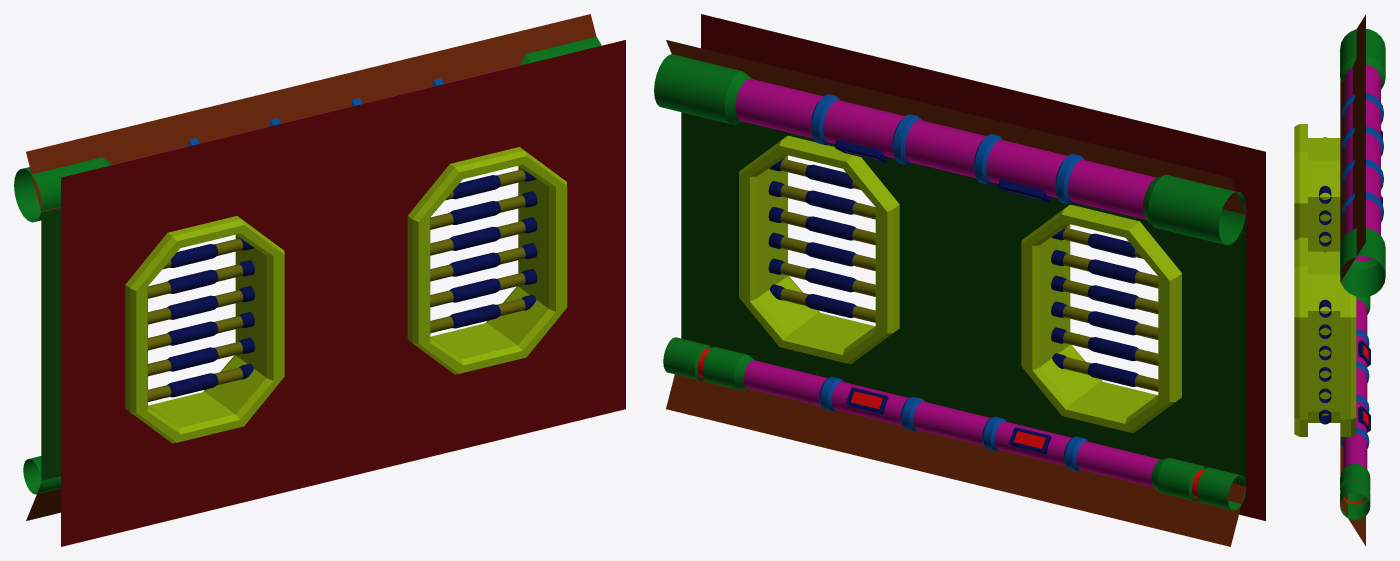
The model's file is OBJ_SF_Mur_Fenetre.fbx.
3 renders of one model, left to right at view 1: azimuth 30°, elevation 25°; view 2: azimuth 150°, elevation 25°; view 3: azimuth 270°, elevation 25°, orthographic. The views are drawn at different scales.
Visible parts, largest first — view 1: OBJ_Mur_Fenetre; view 2: OBJ_Mur_Fenetre; view 3: OBJ_Mur_Fenetre.
Boxes of the visible parts, left/top/right/bottom form: OBJ_Mur_Fenetre: left=14, top=14, right=625, bottom=546; OBJ_Mur_Fenetre: left=654, top=14, right=1265, bottom=546; OBJ_Mur_Fenetre: left=1294, top=14, right=1385, bottom=546.
Bounding box in the file's own units: 12 × 7.5 × 2.04.
